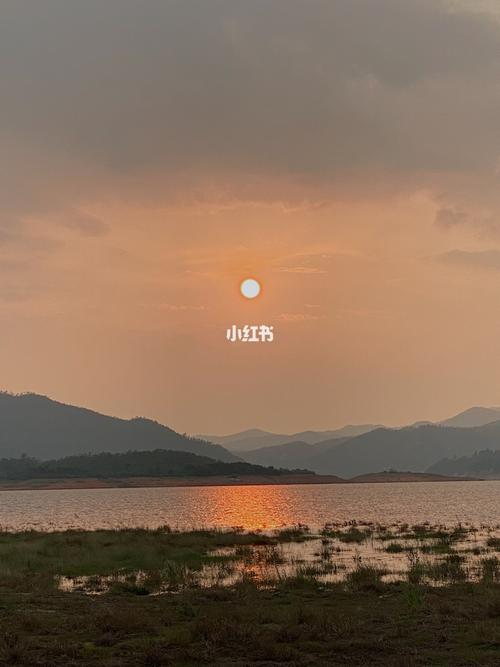mountain: (17, 391, 328, 489)
